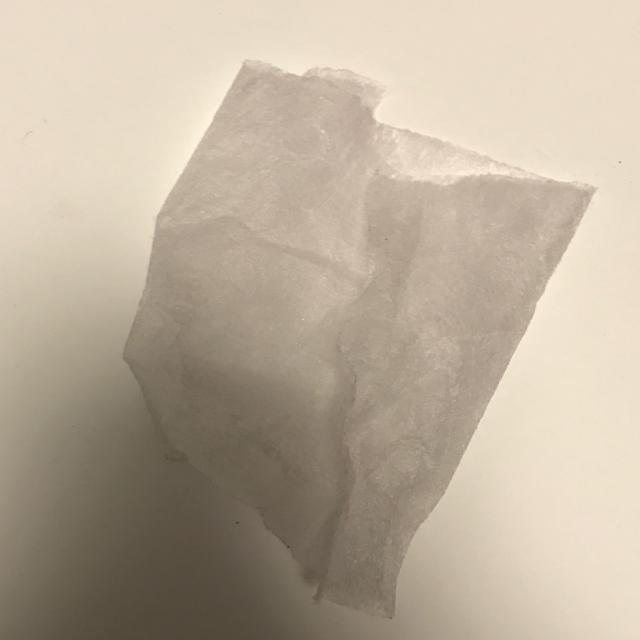Trash: (121, 58, 598, 620)
